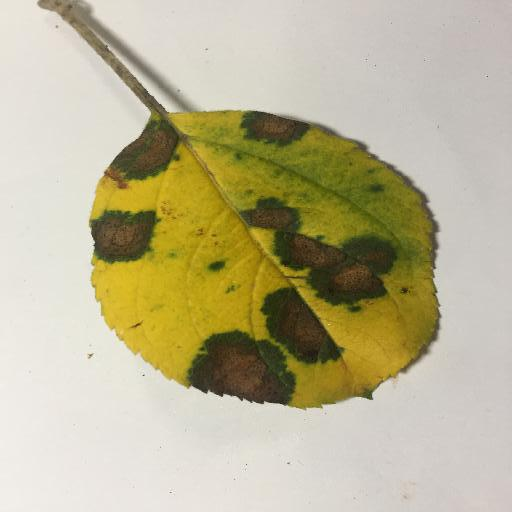Brown_Spot: (254, 202, 385, 303), (188, 351, 285, 406), (103, 120, 173, 188), (269, 295, 335, 366), (93, 212, 155, 254), (244, 109, 308, 140)
